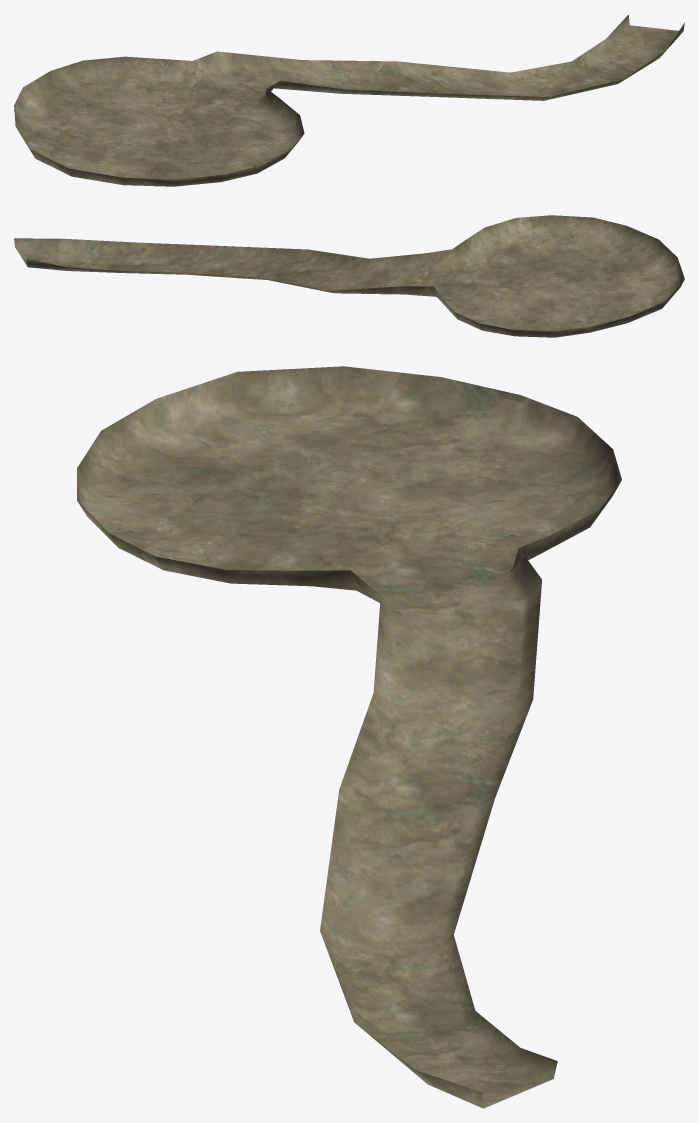
Rendered from EKH_ENTRANCE_PS_EN_CAVE_FLOOR_114.fbx.
The picture shows the model from 3 angles, top to bottom: view 1: azimuth 30°, elevation 25°; view 2: azimuth 150°, elevation 25°; view 3: azimuth 270°, elevation 25°; orthographic projection. The views are drawn at different scales.
Visible parts, largest first — view 1: EKH_ENTRANCE_PS_EN_CAVE_FLOOR_114; view 2: EKH_ENTRANCE_PS_EN_CAVE_FLOOR_114; view 3: EKH_ENTRANCE_PS_EN_CAVE_FLOOR_114.
Part boxes in pixels (<box>): EKH_ENTRANCE_PS_EN_CAVE_FLOOR_114: <box>14,15,684,186</box>; EKH_ENTRANCE_PS_EN_CAVE_FLOOR_114: <box>14,215,684,337</box>; EKH_ENTRANCE_PS_EN_CAVE_FLOOR_114: <box>77,366,621,1108</box>.
Bounding box in the file's own units: 261562 × 31622 × 100075.
Materials: 1 (1 with a texture image).
